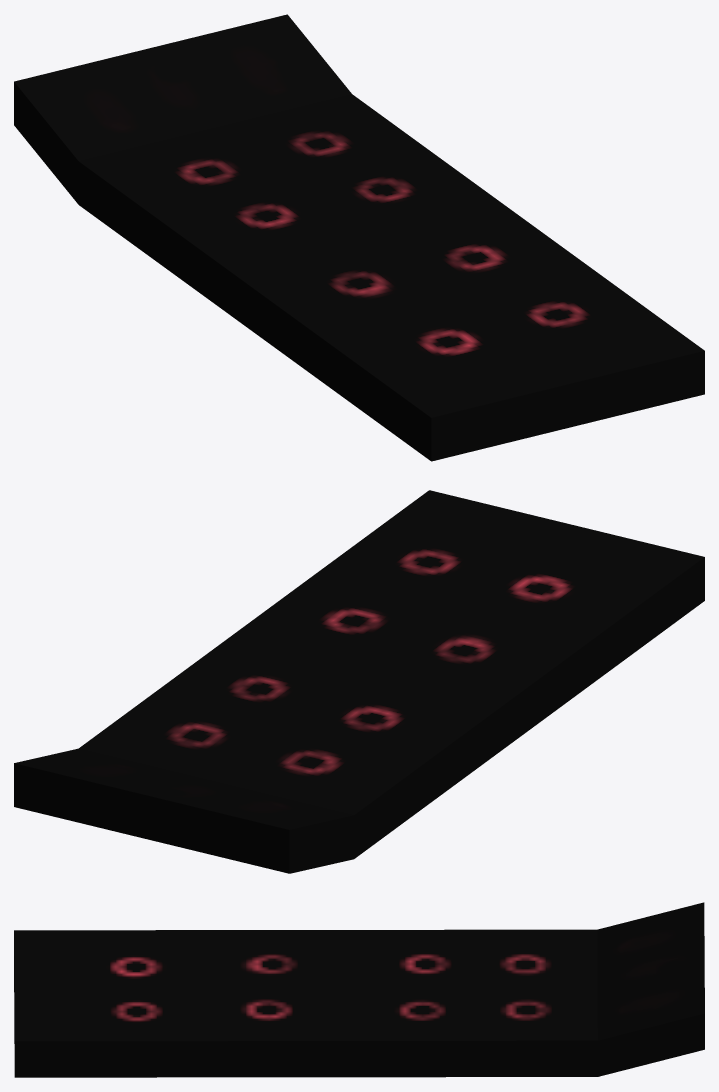
File: materassino.obj
3 views of the same model, one above another, from view 1: azimuth 30°, elevation 25°; view 2: azimuth 150°, elevation 25°; view 3: azimuth 270°, elevation 25° (orthographic). The views are drawn at different scales.
Parts seen in each view (by area): view 1: Cube; view 2: Cube; view 3: Cube.
Part boxes in pixels (<box>): Cube: <box>14,14,704,461</box>; Cube: <box>14,490,704,873</box>; Cube: <box>14,902,704,1077</box>.
Size of the model in its own units: 8.84 by 2.34 by 23.08.
